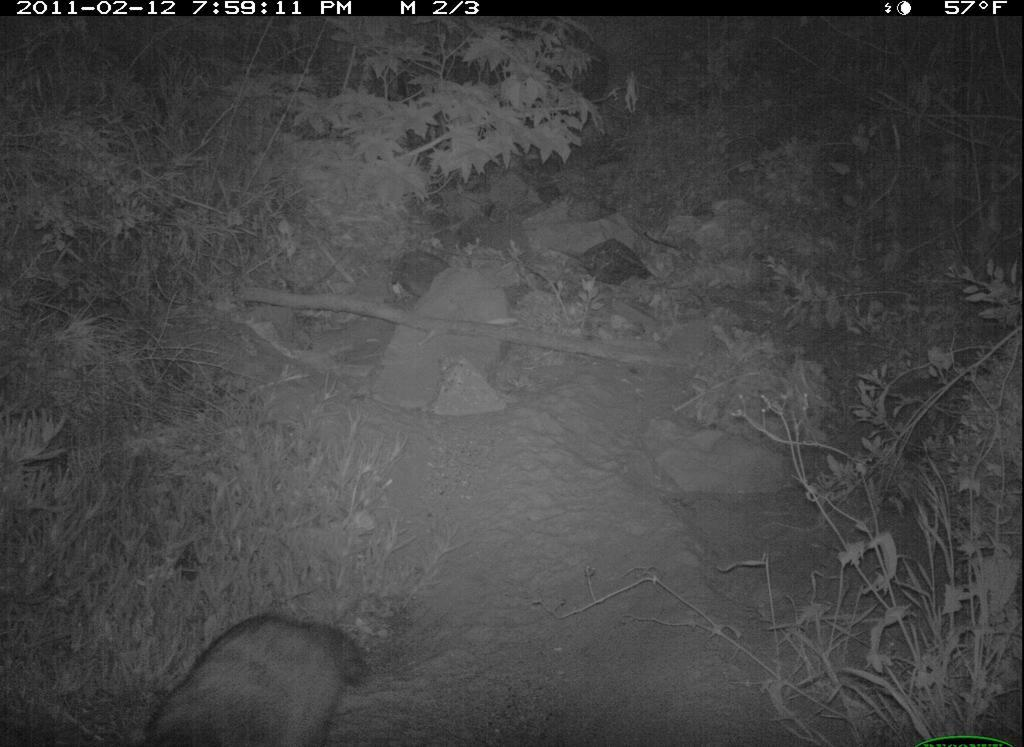raccoon: (111, 601, 386, 744)
